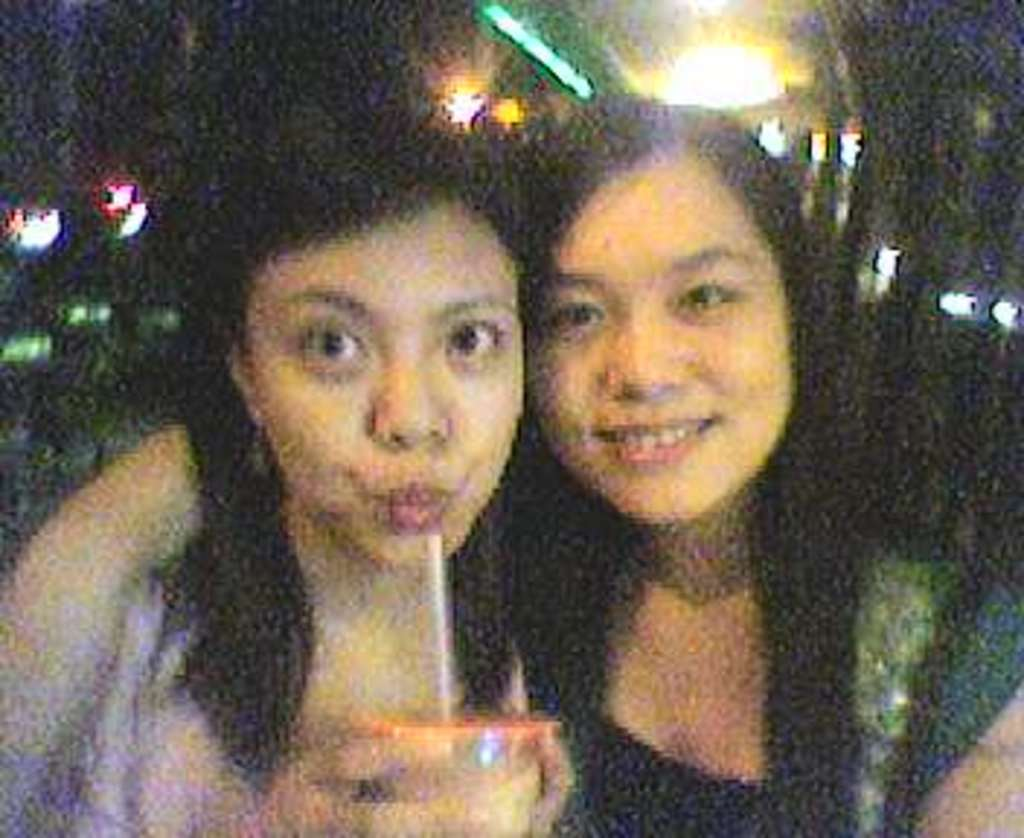Person: (492, 94, 1024, 838)
